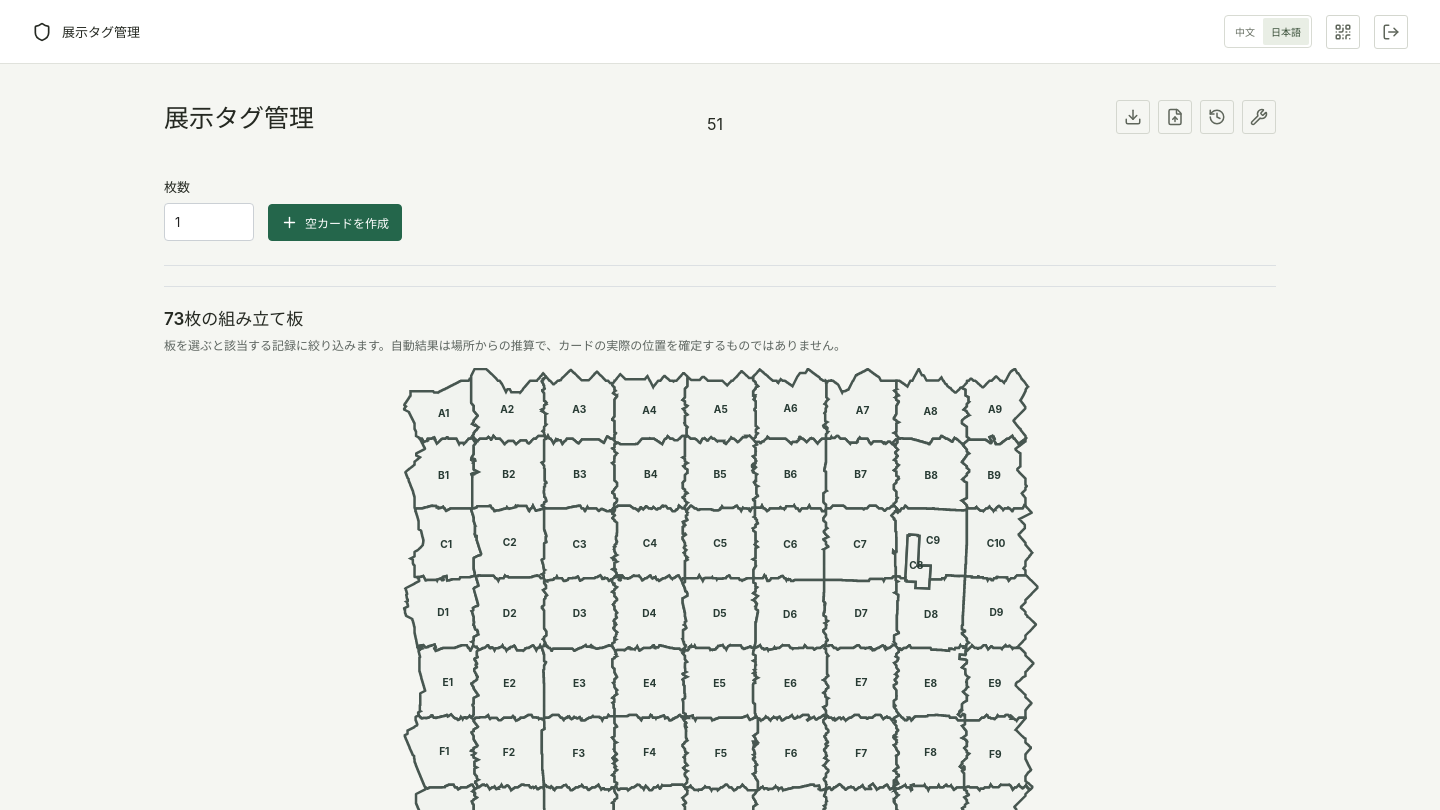
Test case: can cancel uncertain creation after warning to correct next request
This screenshot has width=1440, height=810.
Click the button "空カードを作成" at (335,222), box [268, 204, 402, 241]
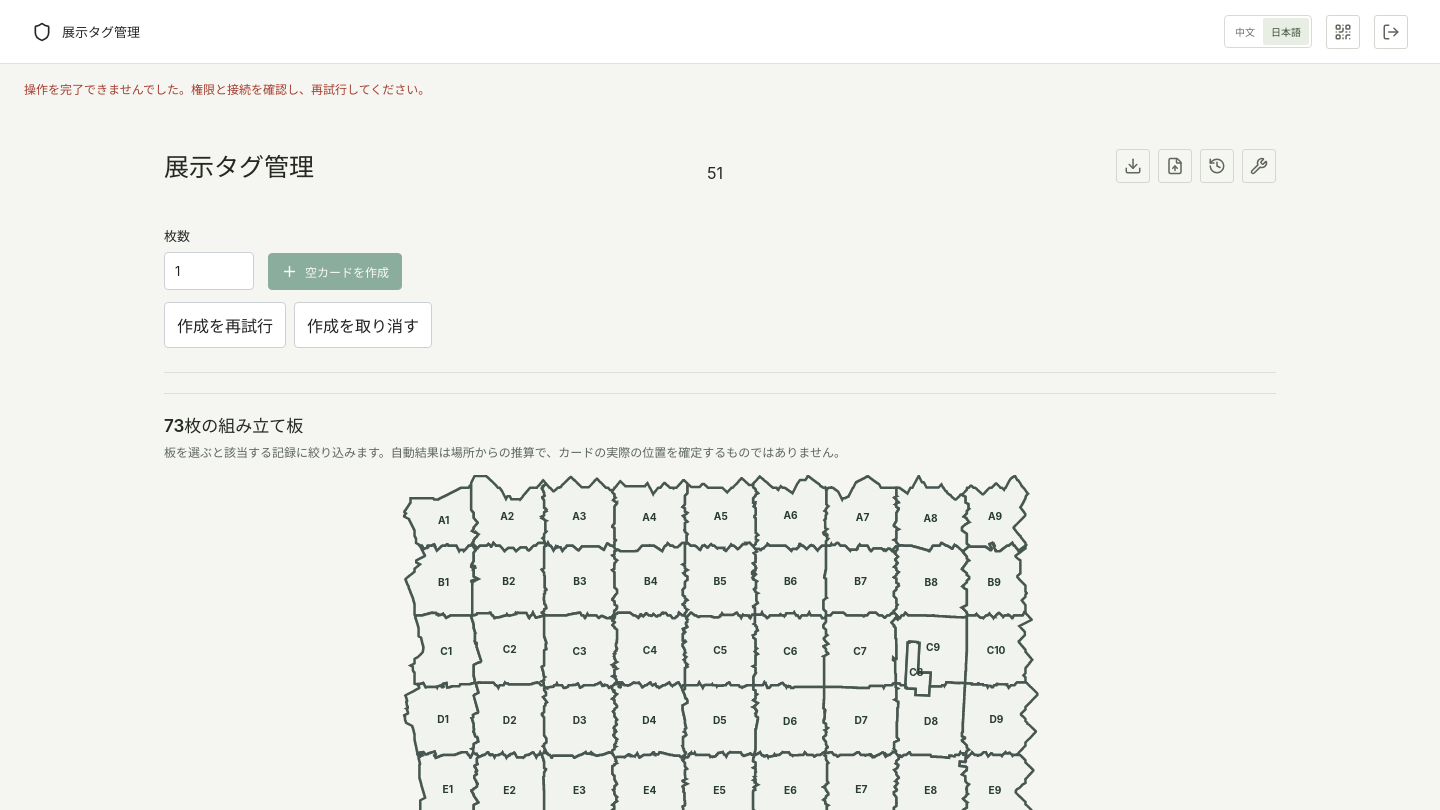
Expected: the message "操作を完了できませんでした。権限と接続を確認し、再試行してください。" is shown, [24, 82, 430, 97]
Expected: the number field labelled "枚数" is disabled, [164, 252, 254, 290]
Click the button "作成を取り消す" at (363,325), box [294, 302, 432, 348]
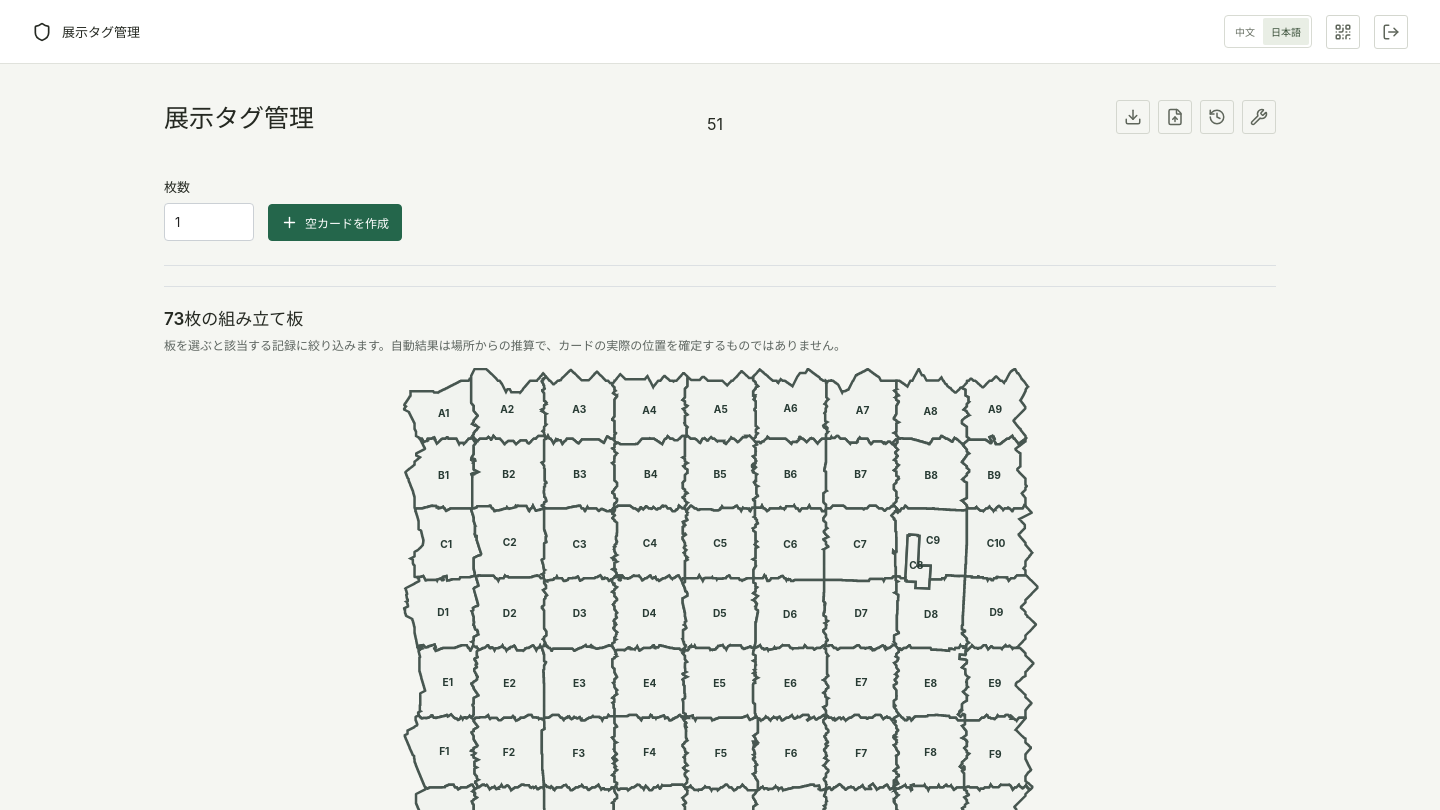
Expected: the number field labelled "枚数" is enabled, [164, 203, 254, 241]
